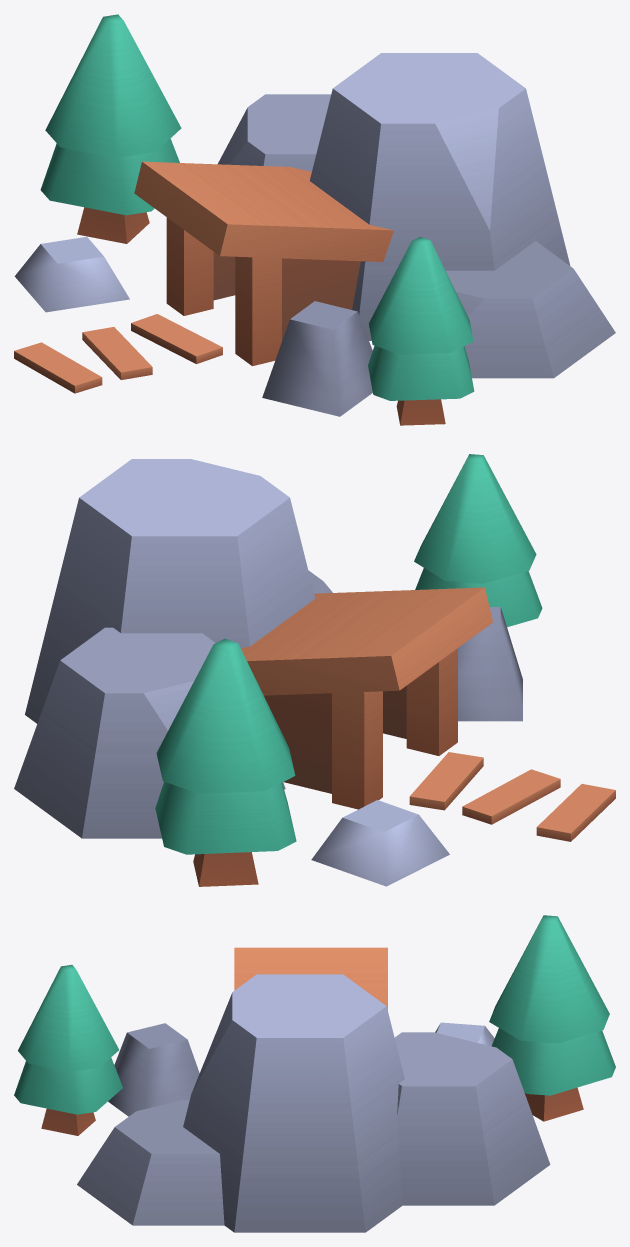
The model's file is mine.fbx.
The picture shows the model from 3 angles, top to bottom: view 1: azimuth 30°, elevation 25°; view 2: azimuth 150°, elevation 25°; view 3: azimuth 270°, elevation 25°; orthographic projection. The views are drawn at different scales.
Parts seen in each view (by area): view 1: building_mine; view 2: building_mine; view 3: building_mine.
Part boxes in pixels (x1=…): building_mine: x1=14, y1=14, x2=615, y2=425; building_mine: x1=14, y1=454, x2=615, y2=886; building_mine: x1=14, y1=915, x2=615, y2=1232.
Bounding box in the file's own units: 83.3 × 33.82 × 97.92.
